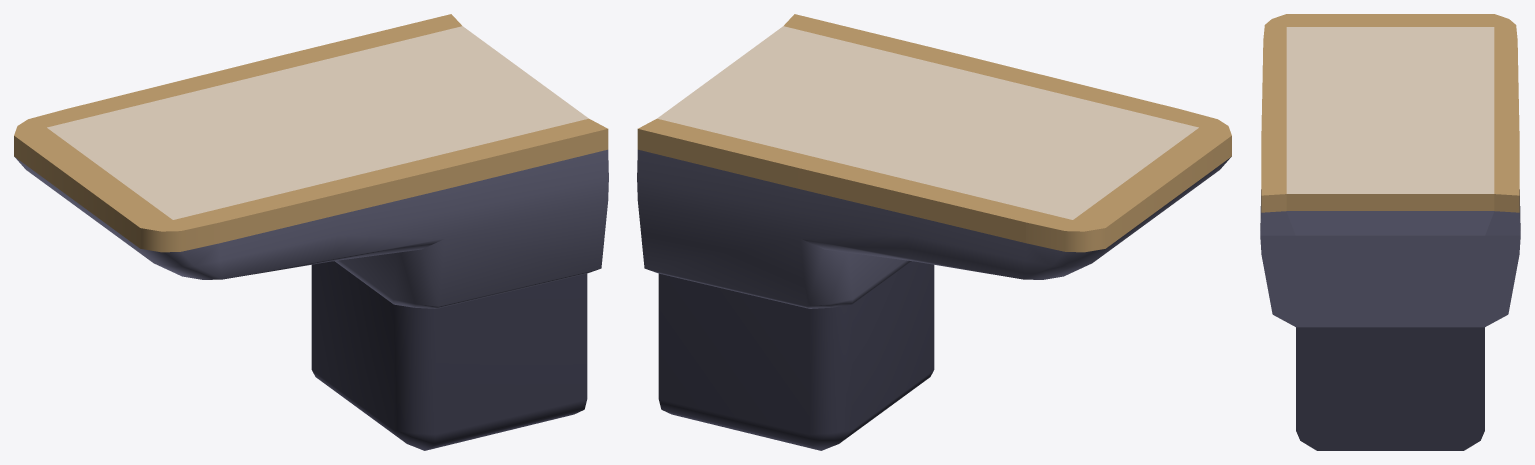
The model's file is Anvil_Bow.fbx.
3 renders of one model, left to right at view 1: azimuth 30°, elevation 25°; view 2: azimuth 150°, elevation 25°; view 3: azimuth 270°, elevation 25°, orthographic. The views are drawn at different scales.
Visible parts, largest first — view 1: Ship1_Anvil_Bow; view 2: Ship1_Anvil_Bow; view 3: Ship1_Anvil_Bow.
Part boxes in pixels (bbox=[...]): Ship1_Anvil_Bow: bbox=[14, 14, 608, 450]; Ship1_Anvil_Bow: bbox=[637, 14, 1231, 450]; Ship1_Anvil_Bow: bbox=[1260, 14, 1520, 450].
Bounding box in the file's own units: 342 × 224 × 207.
